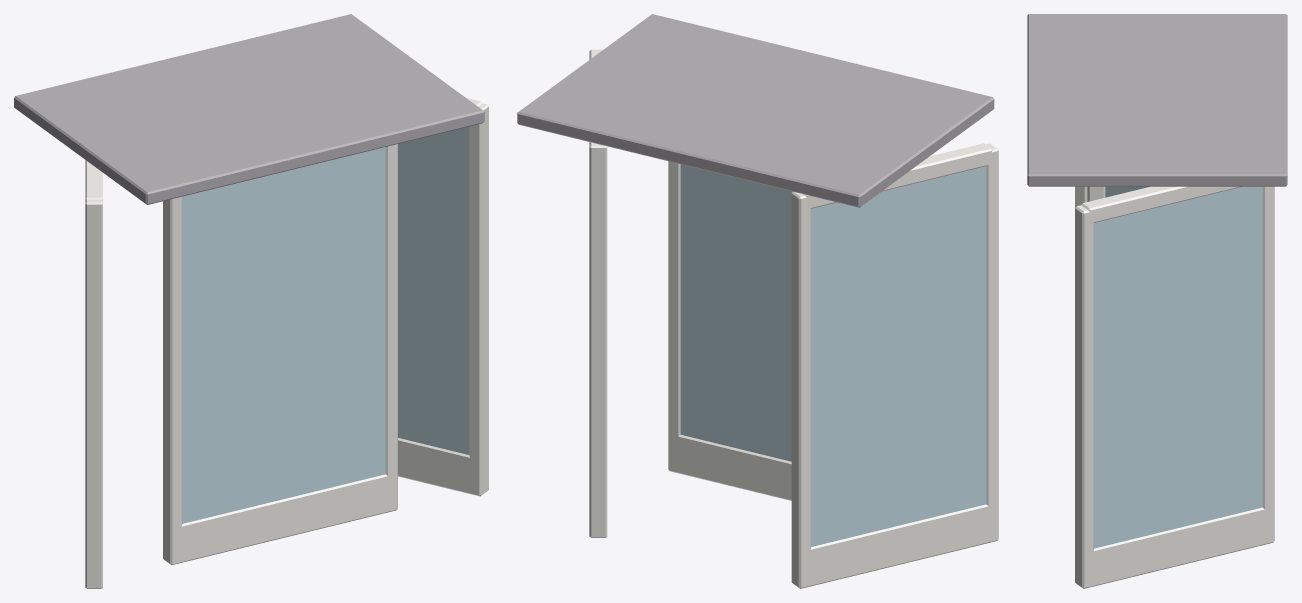
The model's file is SM_Veranda_Bay.fbx.
3 views of the same model, side by side, from view 1: azimuth 30°, elevation 25°; view 2: azimuth 150°, elevation 25°; view 3: azimuth 270°, elevation 25° (orthographic). The views are drawn at different scales.
Parts seen in each view (by area): view 1: Veranda_Bay; view 2: Veranda_Bay; view 3: Veranda_Bay.
Part boxes in pixels (bbox=[...]): Veranda_Bay: bbox=[14, 14, 488, 588]; Veranda_Bay: bbox=[517, 14, 998, 588]; Veranda_Bay: bbox=[1027, 14, 1287, 588].
Bounding box in the file's own units: 262 × 254 × 150.
